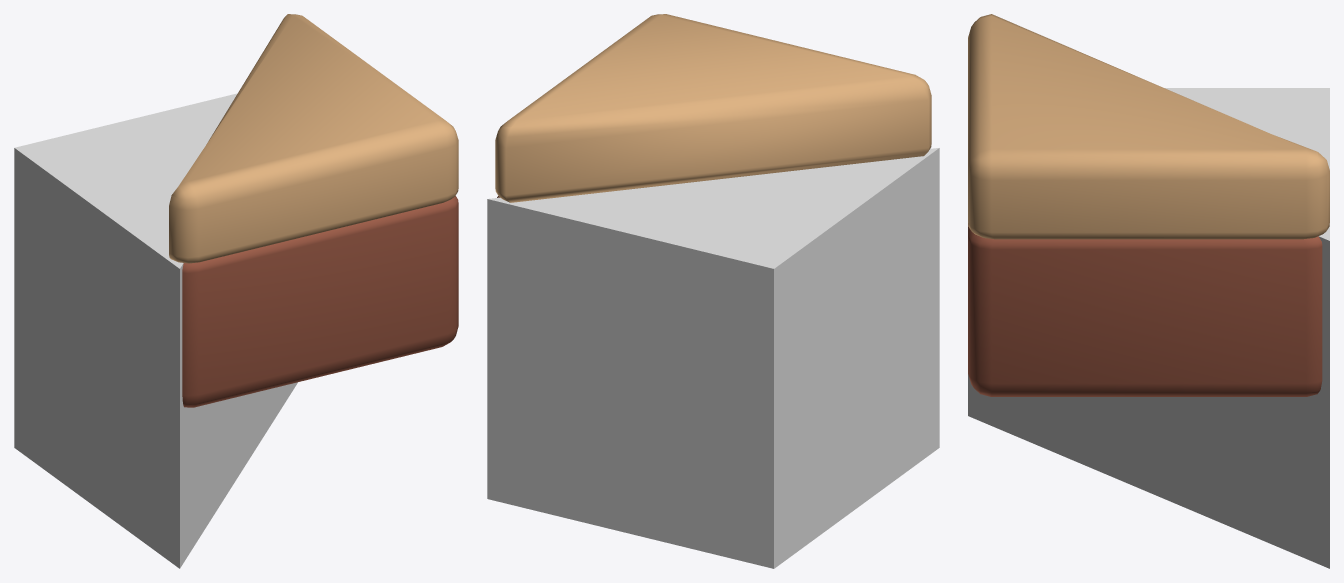
File: tile_water_medium_triangle.glb
3 views of the same model, side by side, from view 1: azimuth 30°, elevation 25°; view 2: azimuth 150°, elevation 25°; view 3: azimuth 270°, elevation 25° (orthographic). The views are drawn at different scales.
Parts seen in each view (by area): view 1: tileMedium_desert, Cube; view 2: Cube, tileMedium_desert; view 3: tileMedium_desert, Cube.
Boxes of the visible parts, x1,y1,x2,y2 form: tileMedium_desert: (169,14,458,407); Cube: (14,93,297,568); Cube: (487,148,939,568); tileMedium_desert: (495,14,931,202); tileMedium_desert: (968,14,1329,396); Cube: (968,88,1329,568).
Size of the model in its own units: 2 by 2.5 by 2.
